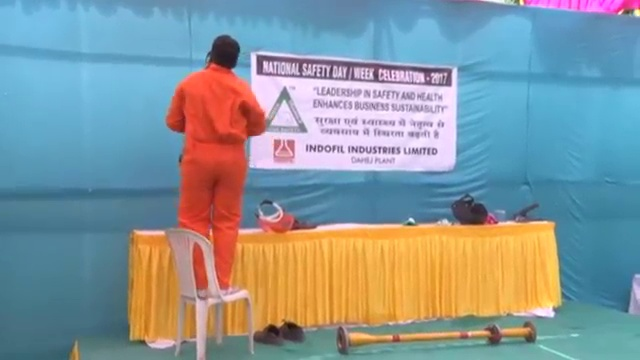helmet_off: (208, 33, 242, 68)
person: (167, 34, 264, 296)
